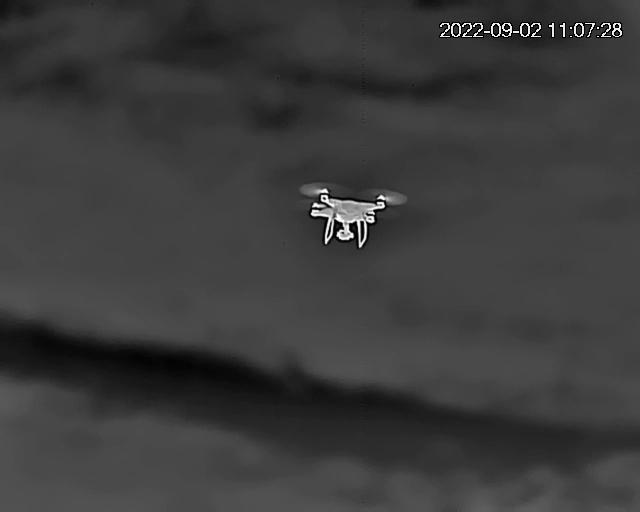DJI-Phantom: (302, 180, 405, 248)
